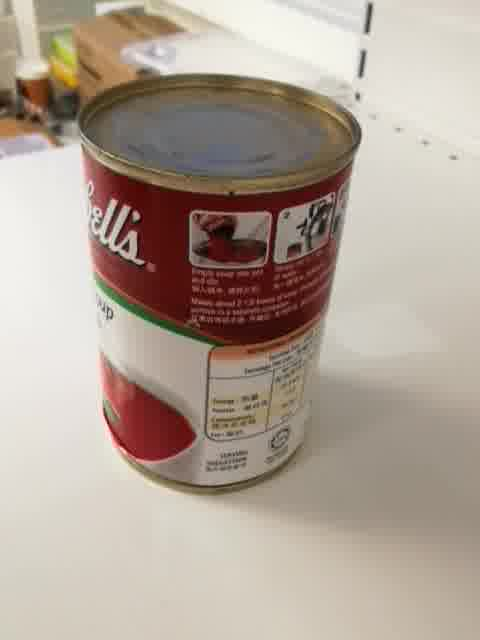tomatosoup: (75, 70, 363, 500)
